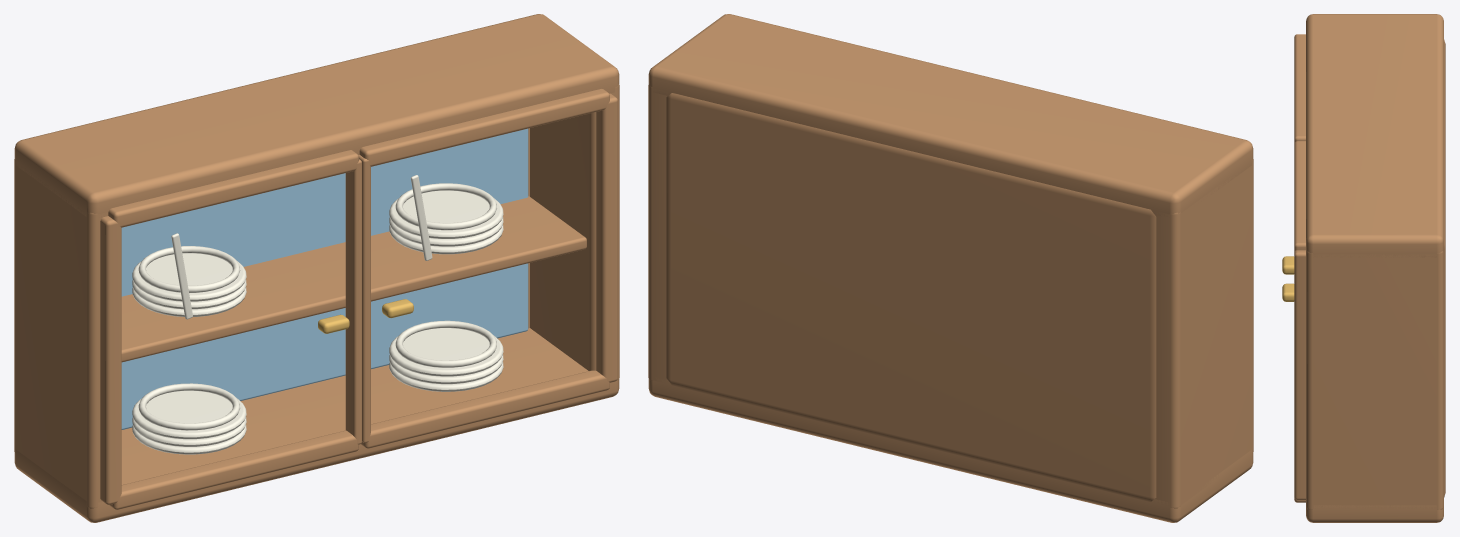
Rendered from kitchenWallCabinetGlass.glb.
3 renders of one model, left to right at view 1: azimuth 30°, elevation 25°; view 2: azimuth 150°, elevation 25°; view 3: azimuth 270°, elevation 25°, orthographic. The views are drawn at different scales.
Parts seen in each view (by area): view 1: Cabinet top and bottom.001, Display cabinet backing, Cabinet side, Cabinet top and bottom, Center display shelf, Cabinet side.001, Glass door mullion, Glass door mullion.002, Glass leaf rail, Glass leaf rail.001, Glass leaf rail.002, Glass leaf rail.003 (+20 smaller); view 2: Cabinet back, Cabinet top and bottom.001, Cabinet side, Cabinet top and bottom, Cabinet side.001; view 3: Cabinet side.001, Cabinet top and bottom.001, Glass door mullion.002, Cabinet top and bottom, Glass leaf rail.003, Glass leaf rail.002, Cabinet back, Cabinet handle, Cabinet handle.001.
Boxes of the visible parts, <box> form: Cabinet top and bottom.001: <box>14,14,619,217</box>; Display cabinet backing: <box>121,128,528,429</box>; Cabinet side: <box>14,159,108,508</box>; Cabinet top and bottom: <box>14,328,619,522</box>; Center display shelf: <box>121,196,586,362</box>; Cabinet side.001: <box>530,84,619,380</box>; Glass door mullion: <box>100,216,121,504</box>; Glass door mullion.002: <box>596,93,617,382</box>; Glass leaf rail: <box>109,430,358,509</box>; Glass leaf rail.001: <box>360,370,609,448</box>; Glass leaf rail.002: <box>108,150,358,227</box>; Glass leaf rail.003: <box>359,89,609,166</box>; Cabinet back: <box>666,93,1156,501</box>; Cabinet top and bottom.001: <box>648,14,1253,216</box>; Cabinet side: <box>1154,159,1253,508</box>; Cabinet top and bottom: <box>648,378,1253,522</box>; Cabinet side.001: <box>648,84,668,383</box>; Cabinet side.001: <box>1306,251,1443,509</box>; Cabinet top and bottom.001: <box>1306,14,1443,257</box>; Glass door mullion.002: <box>1294,250,1305,500</box>; Cabinet top and bottom: <box>1306,505,1443,522</box>; Glass leaf rail.003: <box>1294,141,1305,250</box>; Glass leaf rail.002: <box>1294,34,1305,142</box>; Cabinet back: <box>1444,39,1445,497</box>; Cabinet handle: <box>1282,256,1294,274</box>; Cabinet handle.001: <box>1282,283,1294,301</box>.
Bounding box in the file's own units: 1.82 × 1.08 × 0.555.
